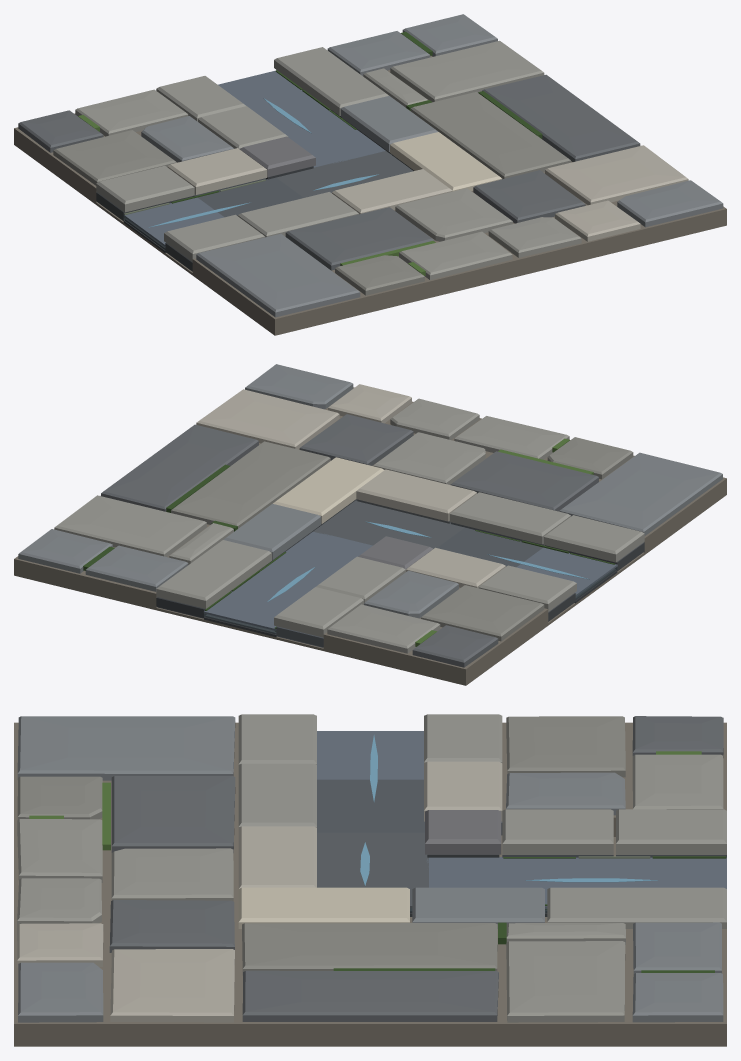
File: SM_LPD_Floor_PavingChannelCorner_01.fbx
The picture shows the model from 3 angles, top to bottom: view 1: azimuth 30°, elevation 25°; view 2: azimuth 150°, elevation 25°; view 3: azimuth 270°, elevation 25°; orthographic projection. The views are drawn at different scales.
Visible parts, largest first — view 1: SM_LPD_Floor_PavingChannelCorner_01; view 2: SM_LPD_Floor_PavingChannelCorner_01; view 3: SM_LPD_Floor_PavingChannelCorner_01.
Part boxes in pixels (bbox=[...]): SM_LPD_Floor_PavingChannelCorner_01: bbox=[14, 14, 726, 335]; SM_LPD_Floor_PavingChannelCorner_01: bbox=[14, 364, 726, 685]; SM_LPD_Floor_PavingChannelCorner_01: bbox=[14, 714, 726, 1046].
Size of the model in its own units: 4 by 0.2 by 4.
